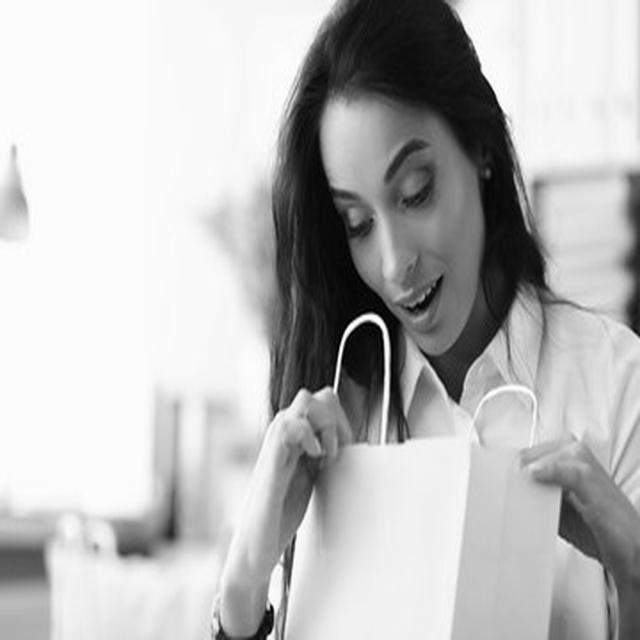Surprised: (320, 94, 485, 356)
